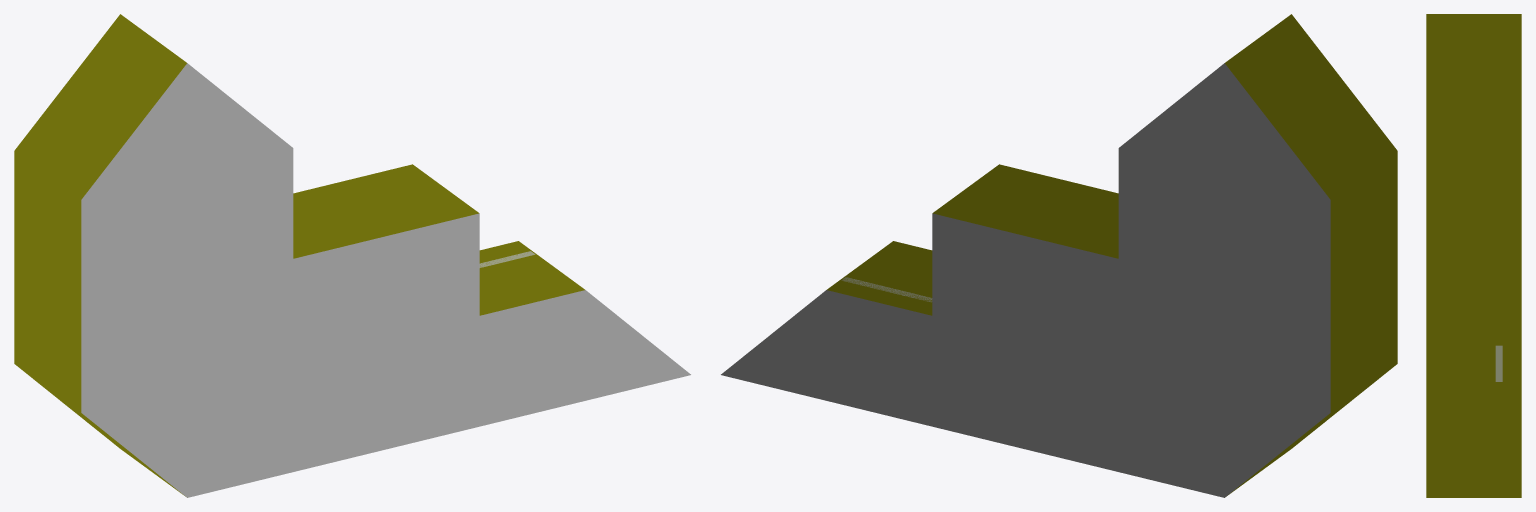
Rendered from idf.obj.
The picture shows the model from 3 angles, left to right: view 1: azimuth 30°, elevation 25°; view 2: azimuth 150°, elevation 25°; view 3: azimuth 270°, elevation 25°; orthographic projection. The views are drawn at different scales.
Bounding box in the file's own units: 26.33 × 17.93 × 5.01.
